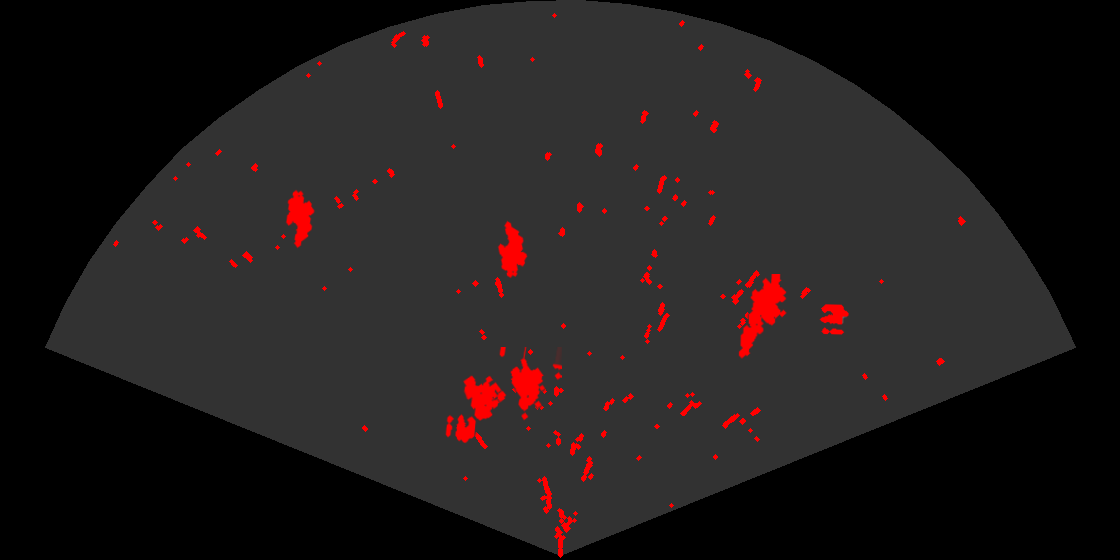AUV: (496, 219, 529, 280), (284, 188, 316, 250)
ball: (444, 412, 478, 445), (818, 303, 850, 336)
cage: (462, 347, 562, 422)
frogman: (737, 274, 788, 360)
